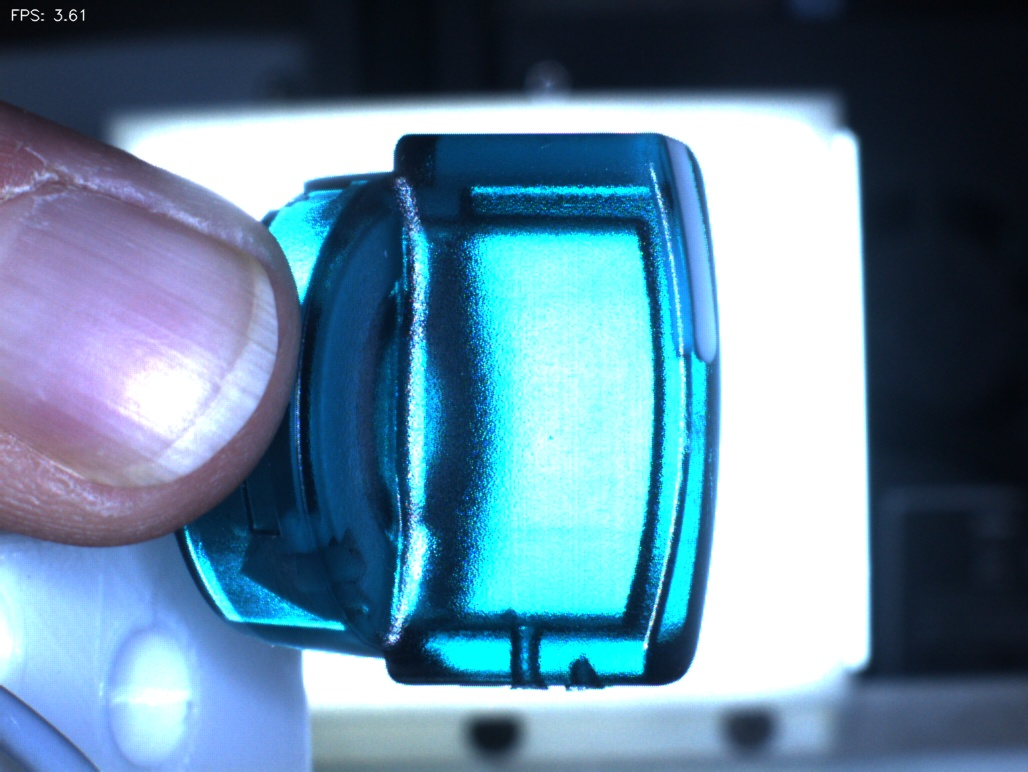Bulle: (548, 638, 623, 720)
